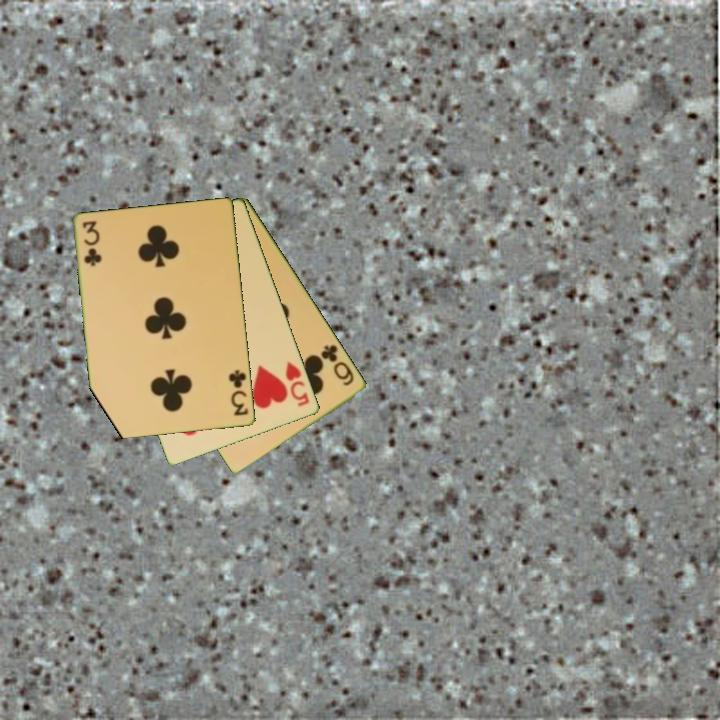3c: (226, 366, 251, 419), (80, 217, 103, 269)
5h: (282, 357, 312, 410)
6c: (318, 341, 358, 389)
